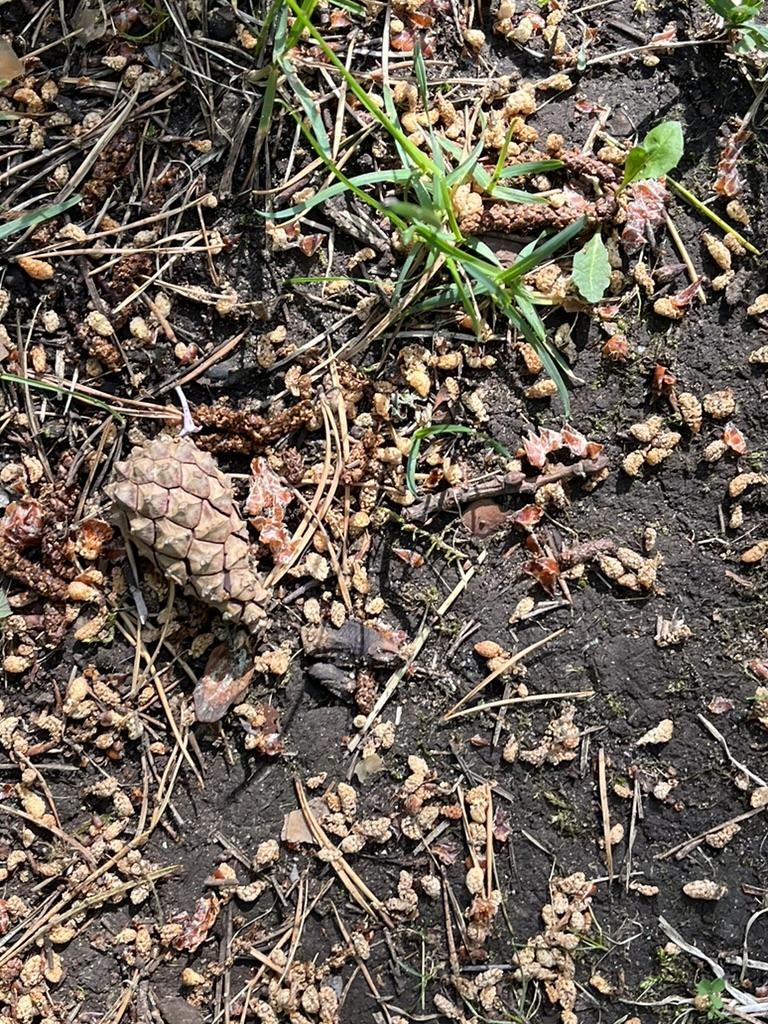pine: (98, 423, 291, 653)
